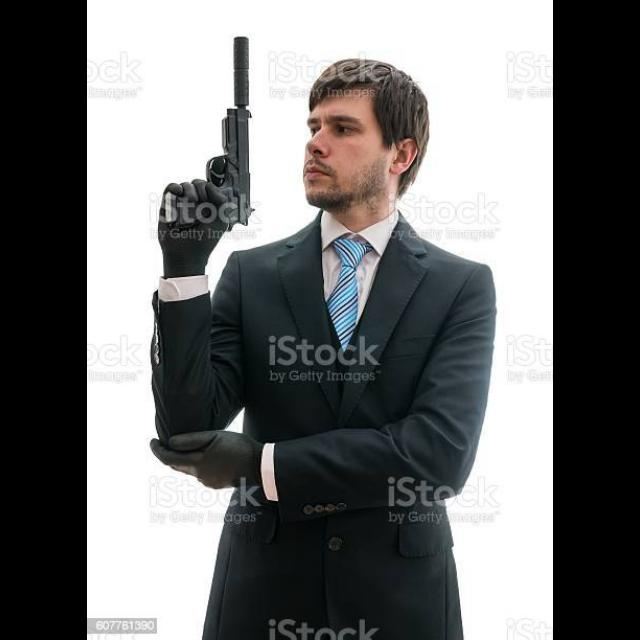handgun: (162, 100, 258, 240)
